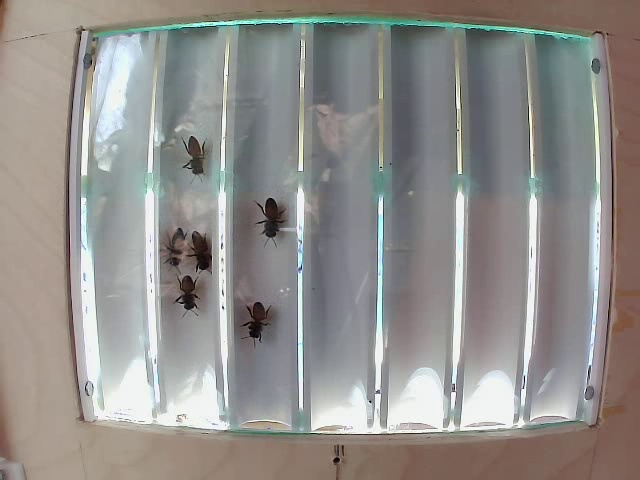bee: (158, 268, 208, 320), (175, 132, 218, 187), (189, 232, 228, 282), (234, 286, 270, 338), (153, 228, 188, 270), (250, 203, 287, 235)
